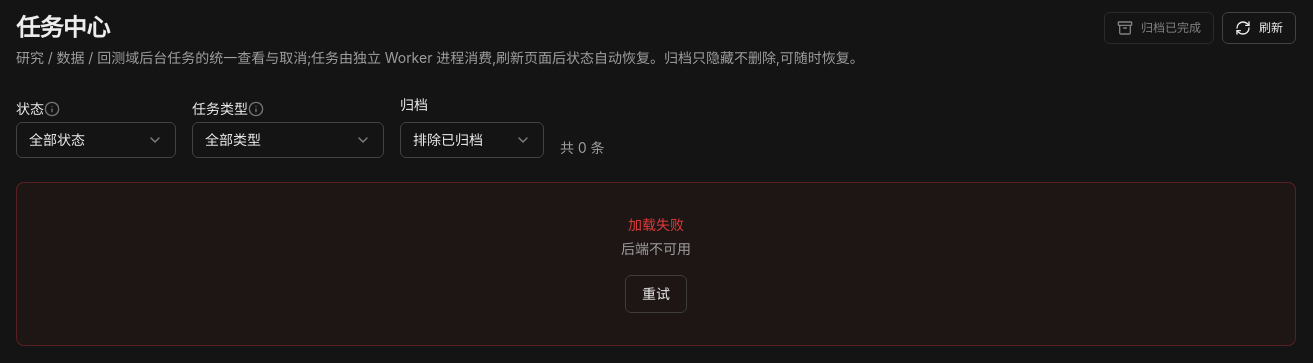
Scenario: 任务中心页 › 列表加载失败显示错误与重试
expect the text "加载失败" is shown: met, box [628, 215, 684, 235]
What coordinates should you click on to do the following:
click the button "重试"
I would click on:
 (656, 294)
Its box is [625, 275, 687, 313].
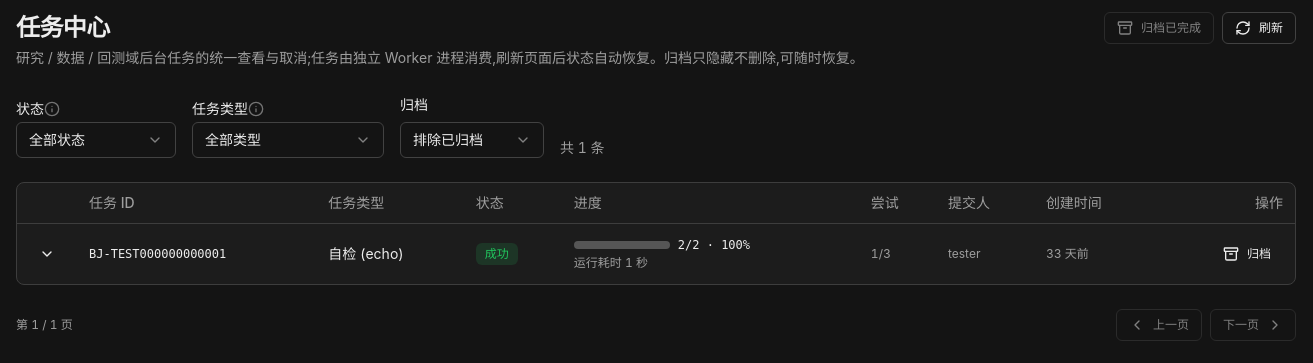
expect the text "BJ-TEST000000000001" is shown: met, box [77, 223, 316, 284]
